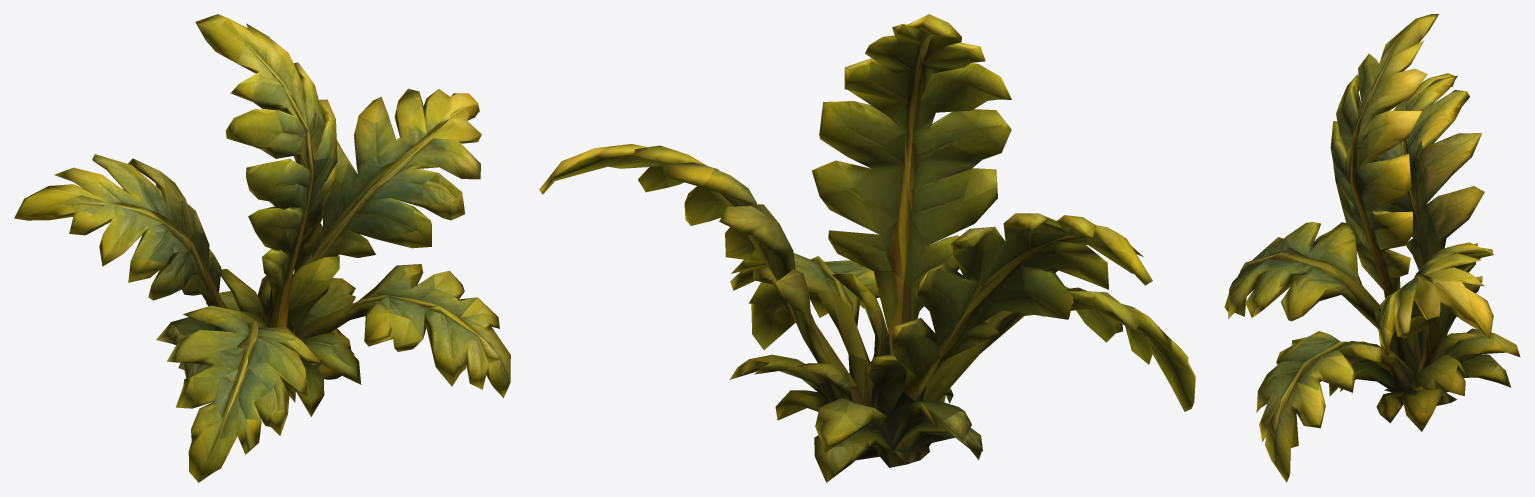
The model's file is fern.glb.
3 renders of one model, left to right at view 1: azimuth 30°, elevation 25°; view 2: azimuth 150°, elevation 25°; view 3: azimuth 270°, elevation 25°, orthographic. The views are drawn at different scales.
Visible parts, largest first — view 1: tripo_node_e123122c-6493-49af-96b1-2f1bf648f4aa; view 2: tripo_node_e123122c-6493-49af-96b1-2f1bf648f4aa; view 3: tripo_node_e123122c-6493-49af-96b1-2f1bf648f4aa.
Boxes of the visible parts, x1,y1,x2,y2 form: tripo_node_e123122c-6493-49af-96b1-2f1bf648f4aa: (14,14,510,482); tripo_node_e123122c-6493-49af-96b1-2f1bf648f4aa: (539,14,1195,482); tripo_node_e123122c-6493-49af-96b1-2f1bf648f4aa: (1224,14,1520,482).
Bounding box in the file's own units: 0.6714 × 0.5 × 0.3667.
1 material, 1 textured.
